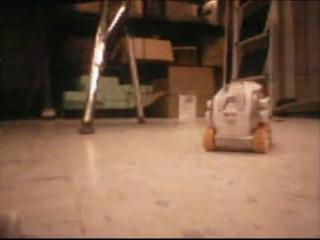cozmo: (202, 78, 273, 154)
